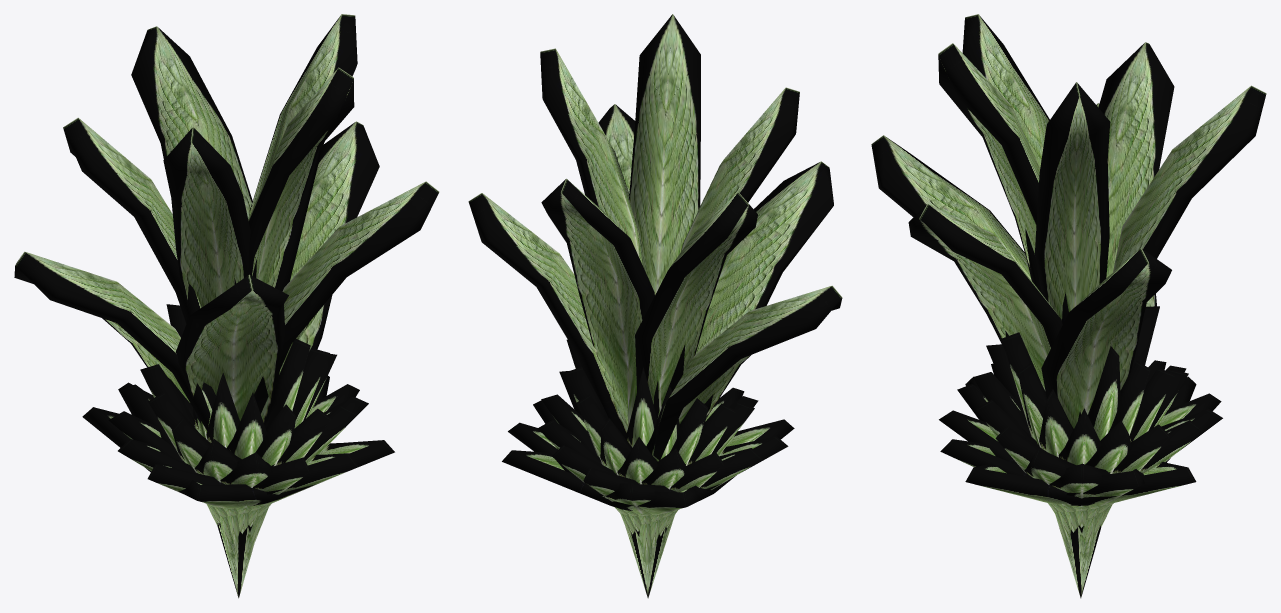
The model's file is plant.dae.
3 renders of one model, left to right at view 1: azimuth 30°, elevation 25°; view 2: azimuth 150°, elevation 25°; view 3: azimuth 270°, elevation 25°, orthographic. The views are drawn at different scales.
Visible parts, largest first — view 1: good_plant; view 2: good_plant; view 3: good_plant.
Boxes of the visible parts, x1=… form: good_plant: x1=14, y1=14, x2=439, y2=598; good_plant: x1=468, y1=14, x2=842, y2=598; good_plant: x1=871, y1=14, x2=1266, y2=598.
Size of the model in its own units: 0.5227 by 0.4743 by 0.7602.
1 material, 1 textured.
